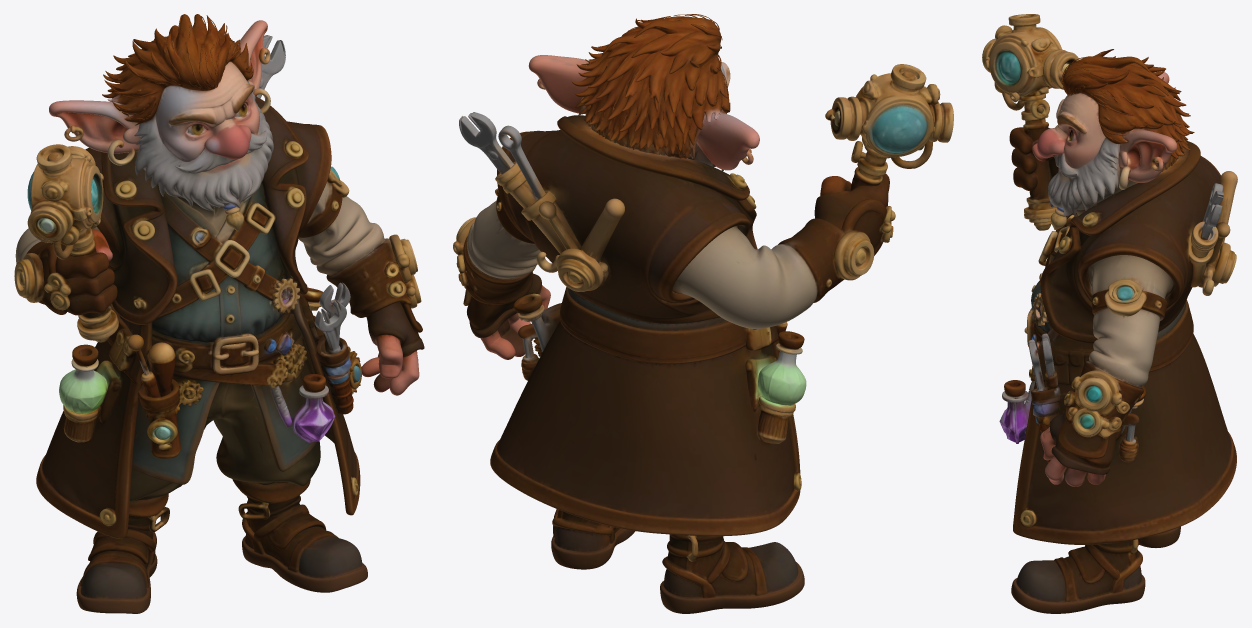
File: gnome_artificer_full_male_01.glb
The picture shows the model from 3 angles, left to right: view 1: azimuth 30°, elevation 25°; view 2: azimuth 150°, elevation 25°; view 3: azimuth 270°, elevation 25°; orthographic projection. The views are drawn at different scales.
Visible parts, largest first — view 1: material; view 2: material; view 3: material.
Boxes of the visible parts, bbox=[...] form: material: bbox=[14, 14, 424, 613]; material: bbox=[453, 14, 953, 613]; material: bbox=[982, 14, 1237, 613].
Size of the model in its own units: 0.8609 by 1.05 by 0.4825.
Materials: 1 (1 with a texture image).
